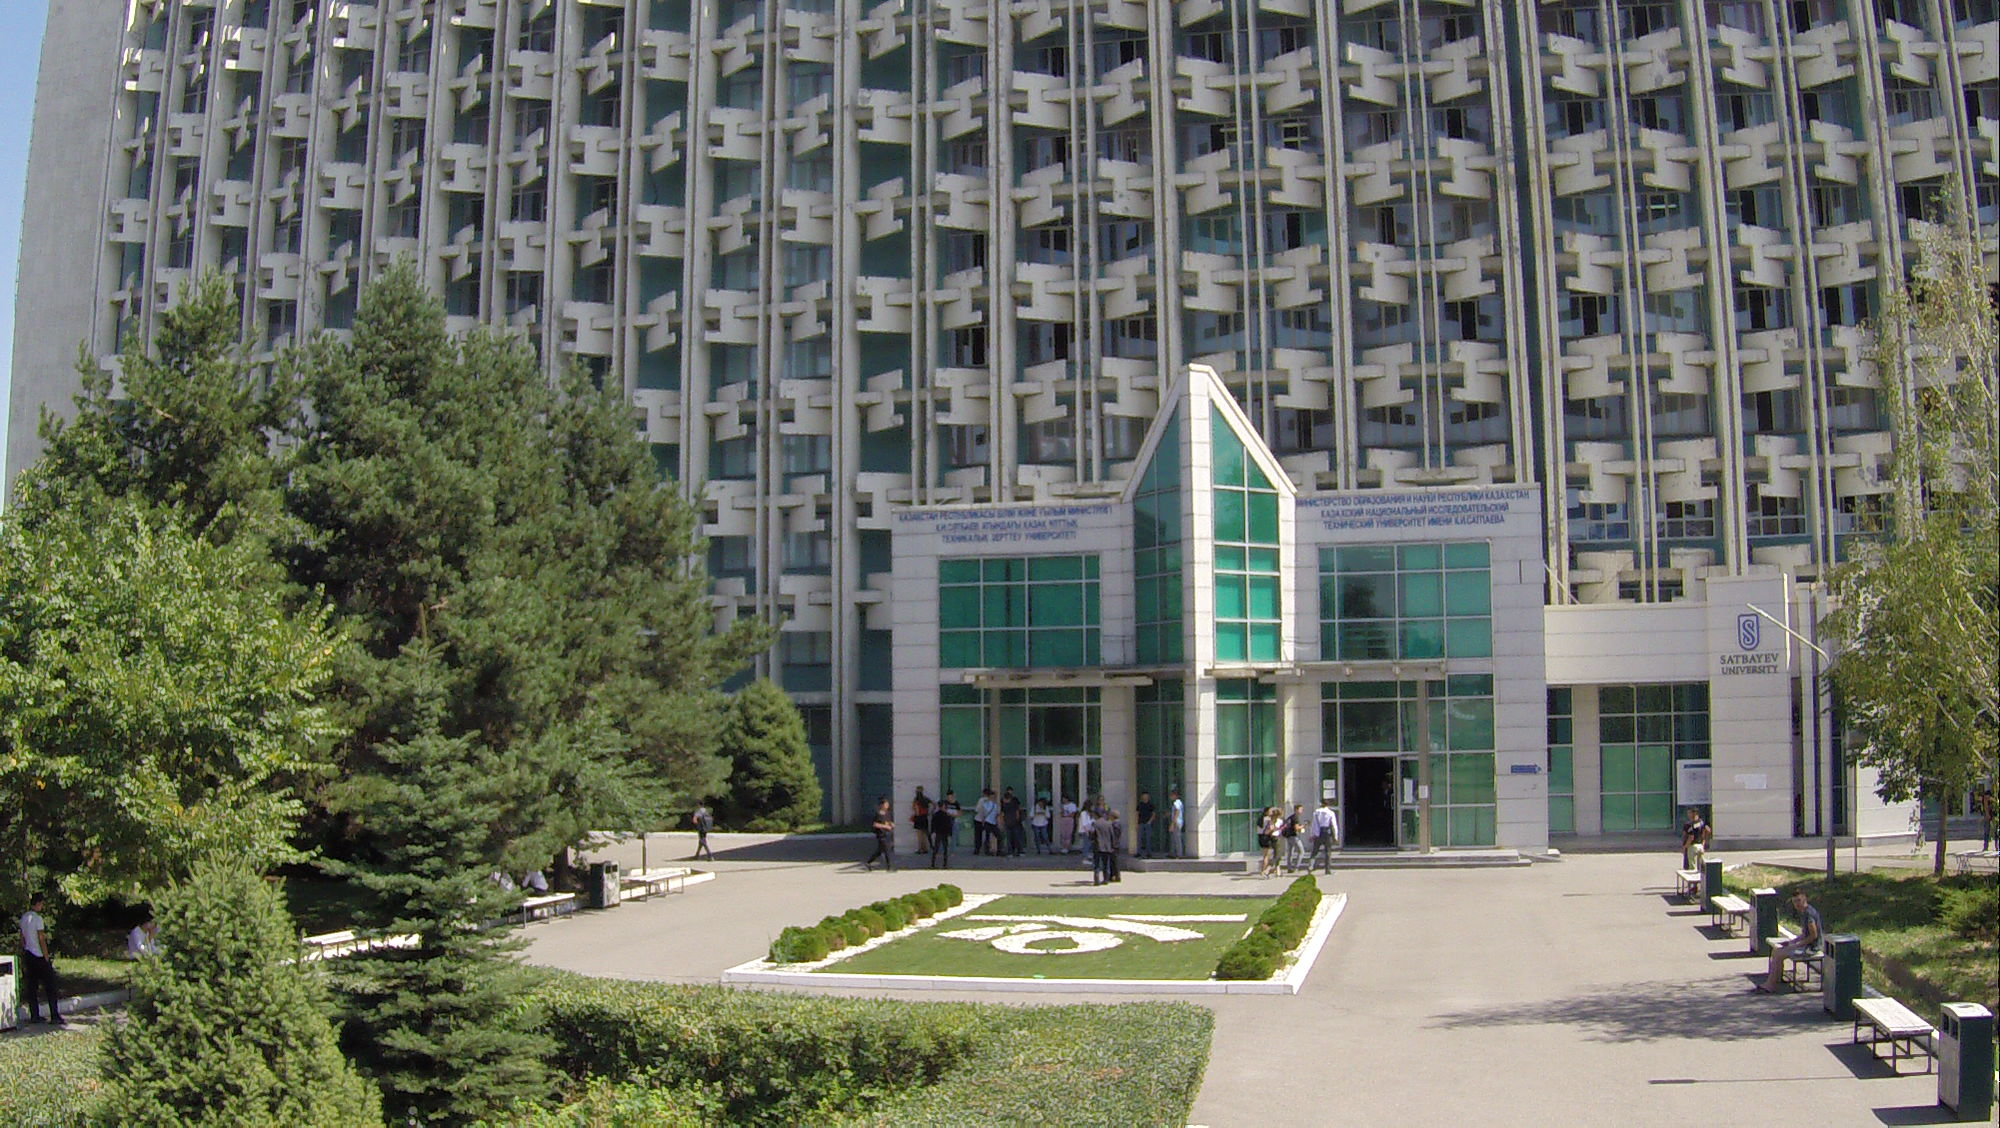person: (16, 893, 66, 1016), (1759, 892, 1819, 994), (1679, 811, 1711, 894), (1309, 801, 1338, 874), (687, 799, 716, 866), (870, 801, 897, 868), (1285, 804, 1306, 876), (932, 803, 951, 868), (1033, 800, 1053, 851), (915, 786, 930, 852), (1004, 797, 1021, 858), (1170, 796, 1187, 856), (1094, 815, 1108, 881), (1137, 797, 1154, 856), (1270, 810, 1284, 879), (1111, 815, 1123, 885), (985, 793, 998, 855), (1255, 813, 1268, 877), (946, 789, 959, 844), (1063, 803, 1076, 852)
